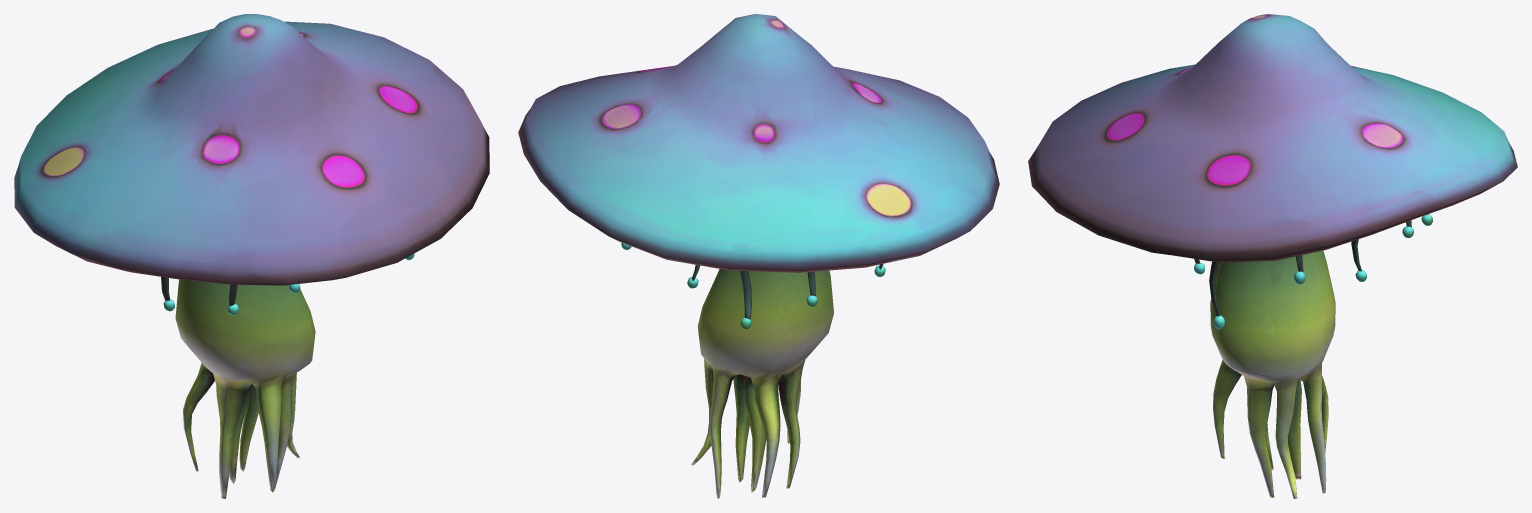
File: fun_guy1.fbx
The picture shows the model from 3 angles, left to right: view 1: azimuth 30°, elevation 25°; view 2: azimuth 150°, elevation 25°; view 3: azimuth 270°, elevation 25°; orthographic projection. The views are drawn at different scales.
Visible parts, largest first — view 1: fun_guy; view 2: fun_guy; view 3: fun_guy.
Part boxes in pixels (bbox=[...]): fun_guy: bbox=[14, 14, 489, 498]; fun_guy: bbox=[518, 14, 999, 498]; fun_guy: bbox=[1028, 14, 1517, 498].
Bounding box in the file's own units: 215 × 225 × 213.
